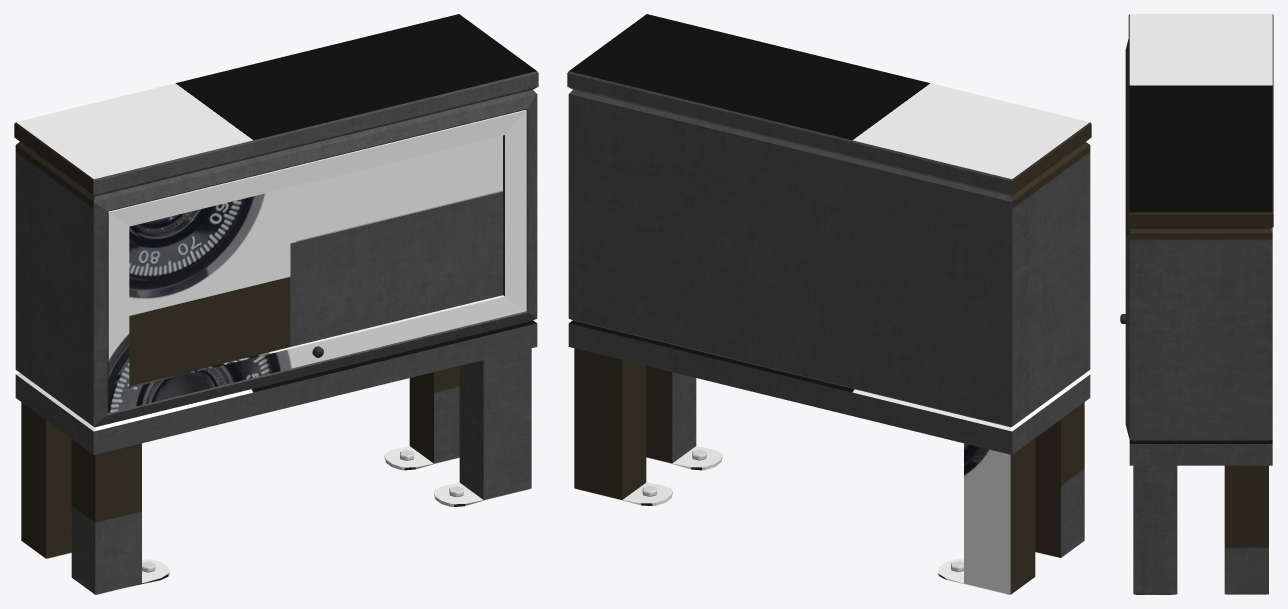
Rendered from XO_TVStand.fbx.
3 views of the same model, side by side, from view 1: azimuth 30°, elevation 25°; view 2: azimuth 150°, elevation 25°; view 3: azimuth 270°, elevation 25° (orthographic). The views are drawn at different scales.
Parts seen in each view (by area): view 1: polySurface10; view 2: polySurface10; view 3: polySurface10.
Part boxes in pixels (x1,y1,x2,y2): polySurface10: (14, 14, 538, 594); polySurface10: (567, 14, 1091, 594); polySurface10: (1125, 14, 1273, 594).
Size of the model in its own units: 784 by 708 by 255.
